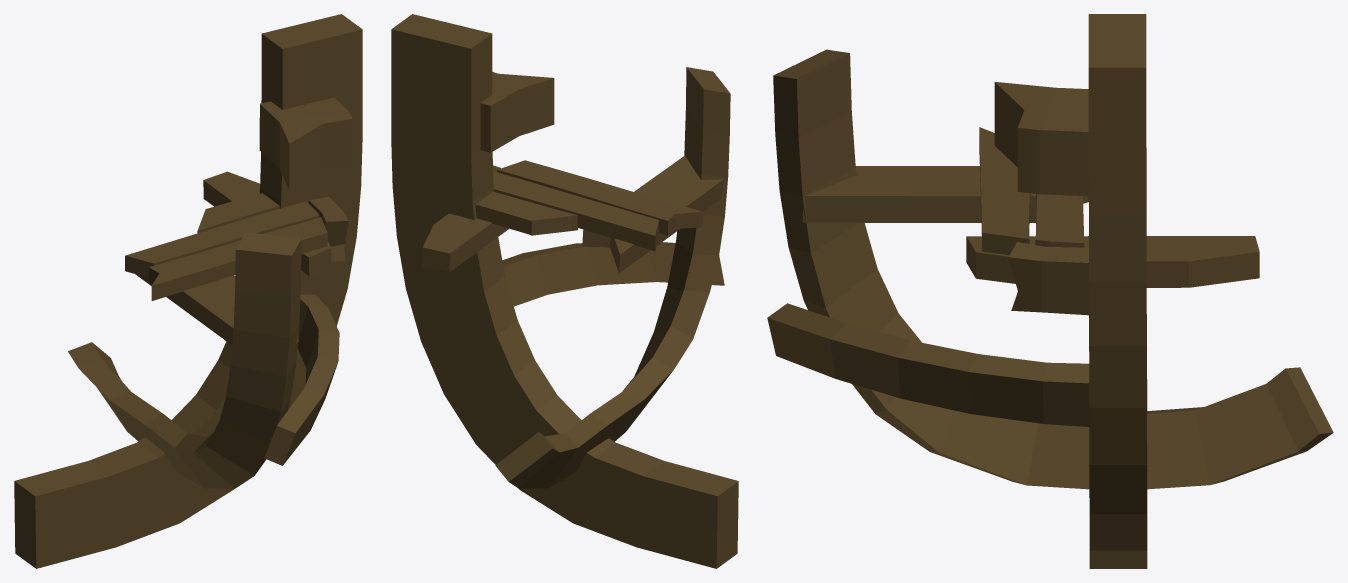
The model's file is DarkWoodDecorationLargeWreckedShipStern1.fbx.
3 views of the same model, side by side, from view 1: azimuth 30°, elevation 25°; view 2: azimuth 150°, elevation 25°; view 3: azimuth 270°, elevation 25° (orthographic). The views are drawn at different scales.
Visible parts, largest first — view 1: DarkWoodDecorationLargeWreckedShipStern1; view 2: DarkWoodDecorationLargeWreckedShipStern1; view 3: DarkWoodDecorationLargeWreckedShipStern1.
Part boxes in pixels (box(x1,y1,x2,y2)): DarkWoodDecorationLargeWreckedShipStern1: box(14, 14, 362, 568); DarkWoodDecorationLargeWreckedShipStern1: box(391, 14, 738, 568); DarkWoodDecorationLargeWreckedShipStern1: box(767, 14, 1333, 568).
Size of the model in its own units: 897 by 1206 by 983.
1 material, 1 textured.
